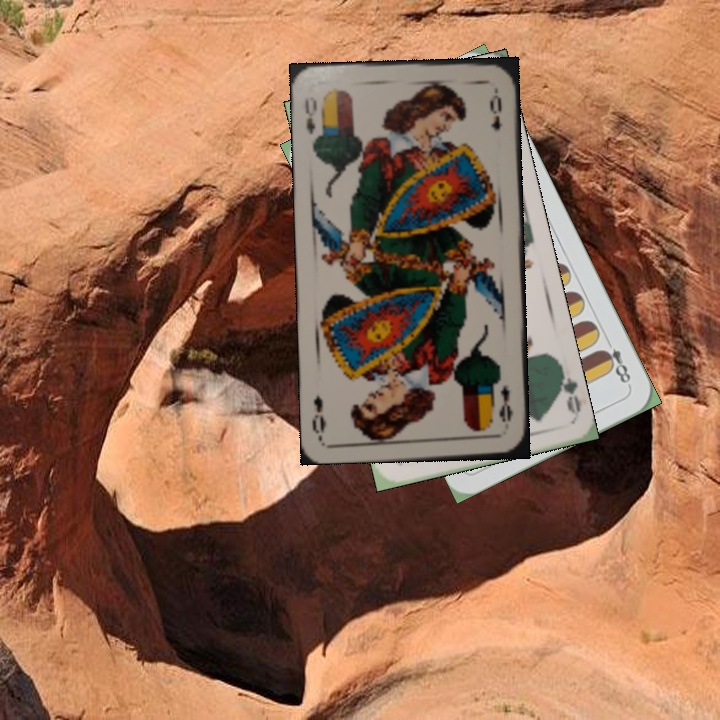E8: (597, 334, 634, 390)
EO: (495, 381, 516, 425), (301, 92, 320, 136)
GO: (552, 360, 583, 417)
